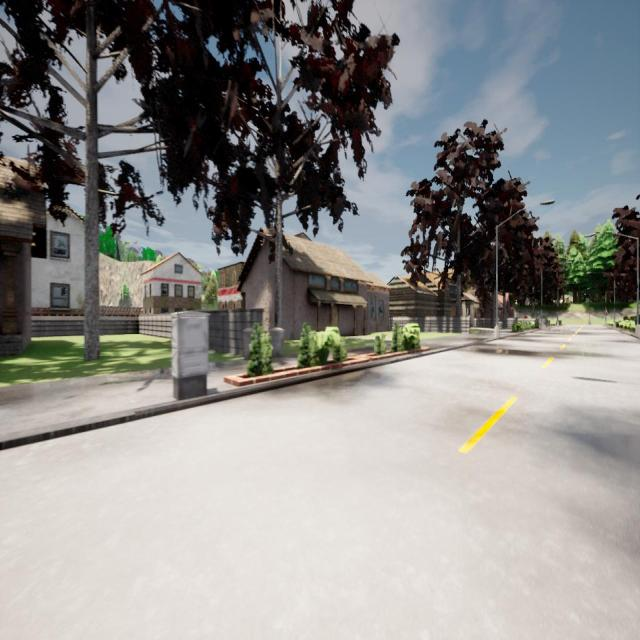traffic_light: (606, 310, 608, 315)
